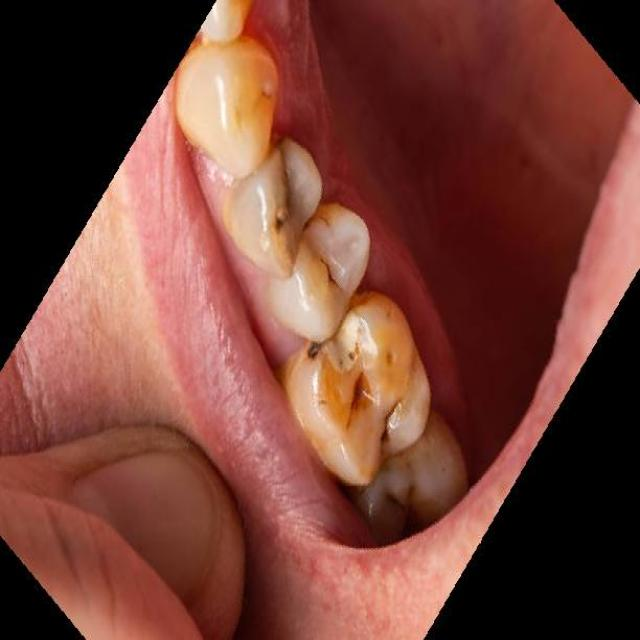caries: (301, 307, 360, 383), (376, 467, 432, 538), (338, 368, 373, 440), (261, 186, 298, 253), (376, 392, 409, 458), (314, 247, 347, 302), (378, 339, 403, 384), (377, 297, 404, 337)
